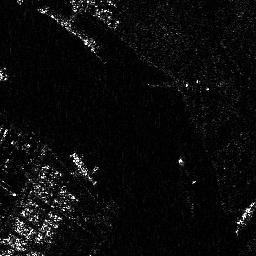ship: (69, 151, 97, 185), (232, 202, 256, 235)
